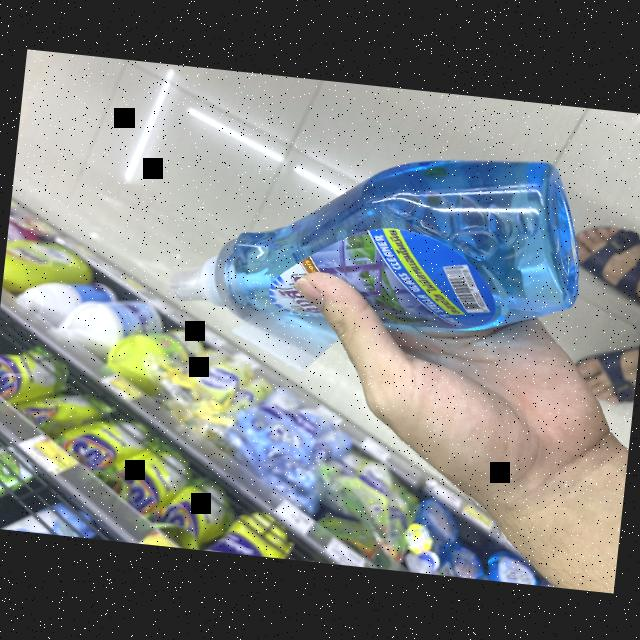chemical_plastic_bottle: (178, 117, 598, 352)
